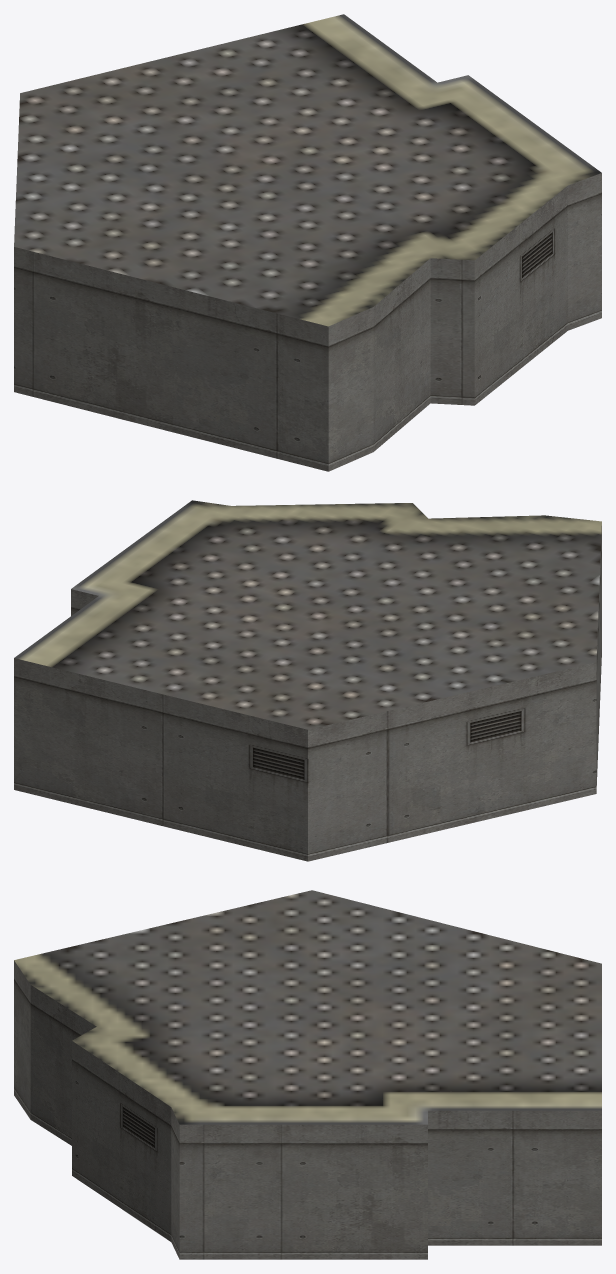
The model's file is building_medium_a_49.glb.
3 renders of one model, top to bottom at view 1: azimuth 30°, elevation 25°; view 2: azimuth 150°, elevation 25°; view 3: azimuth 270°, elevation 25°, orthographic. The views are drawn at different scales.
Parts seen in each view (by area): view 1: buildings/saxarba/building_medium/building_medium_a_49; view 2: buildings/saxarba/building_medium/building_medium_a_49; view 3: buildings/saxarba/building_medium/building_medium_a_49.
Part boxes in pixels (box(x1,y1,x2,y2)): buildings/saxarba/building_medium/building_medium_a_49: box(14, 14, 601, 471); buildings/saxarba/building_medium/building_medium_a_49: box(14, 500, 601, 861); buildings/saxarba/building_medium/building_medium_a_49: box(14, 890, 601, 1259).
Bounding box in the file's own units: 67 × 18 × 71.
